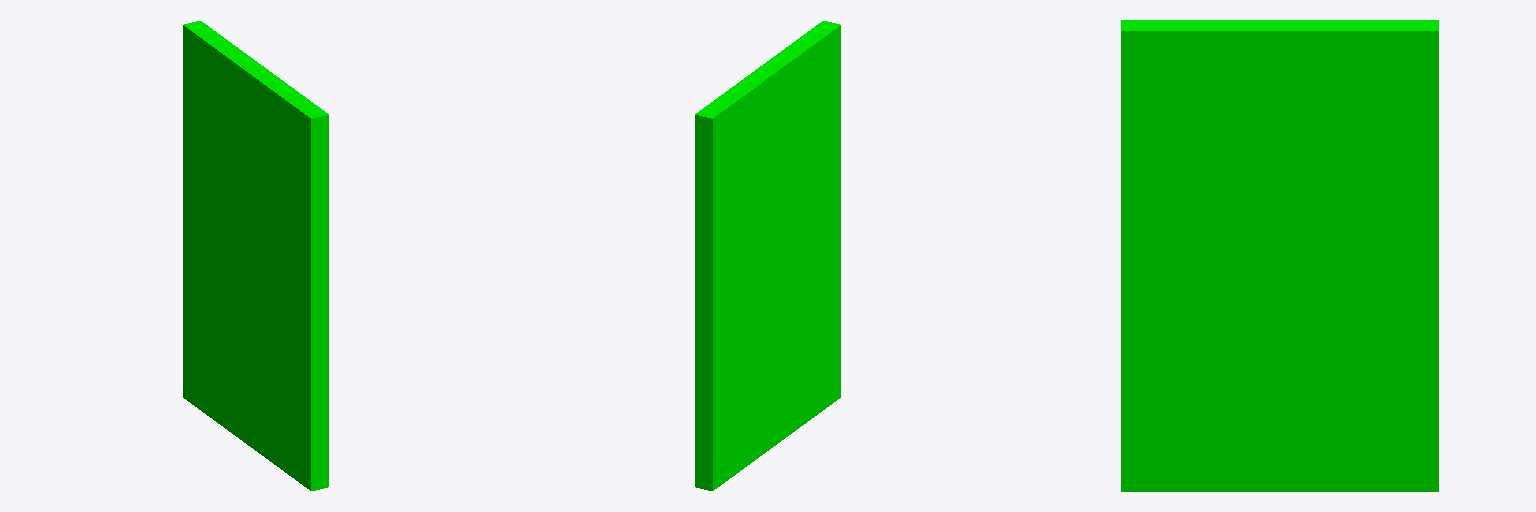
The robot description file, URDF, robot "simple_box":
<?xml version="1.0"?>
<robot name = "simple_box">

    <link name = "dummy"/>

    <link name="base_link">
        <visual>
            <geometry>
                <!--  box size = "0.4 0.4 0.8" -->
                <!-- <box size = "0.4 0.4 8" /> -->

                <!-- test box for log points -->
                <box size = "0.4 5 8" />

            </geometry>
            <material name = "green">
                <color rgba = "0 1 0 1" />
            </material>
        </visual>
        <collision>
            <geometry>
                <box size="0.4 0.4 0.8"/>
            </geometry>
        </collision>
        <inertial>
            <mass value = "10.0"/>
            <origin xyz = "0 0 0" rpy= "0 0 0"/> 
            <inertia ixx="1.0" ixy = "0.0" ixz="0.0" iyy="1.0" iyz="0.0" izz="1.0"/>
        </inertial>
    </link>

    <joint name= "dummy_joint" type = "fixed">
        <parent link= "dummy" />
        <child link= "base_link"/>
        <origin xyz="0 0 0" rpy="0 0 0"/>
    </joint>

    <gazebo reference= "base_link">
        <material>Gazebo/Green</material>
        <mu1>0.2</mu1>
        <mu2>0.2</mu2>

    </gazebo>

    <!-- depth camera -->

    <!-- <link name= "depth_camera_link">
        <visual>
            <geometry> 
                <box size= "0.1 0.1 0.1" />
            </geometry>
            <material name= "red" >
                <color rgba= "1 0 0 1" />
            </material>
        </visual>
        <inertial>
            <mass value= "0.2" />
            <origin xyz= "0 0 0" />
            <inertia ixx= "0.1" ixy= "0.0" ixz= "0.0" iyy= "0.1" iyz= "0.0" izz= "0.1" />
        </inertial>
        <collision>
            <geometry>
                <box size= "0.1 0.1 0.1" />
            </geometry>
        </collision>
    </link>

    <joint name= "depth_camera_joint" type= "fixed">
        <parent link= "base_link" />
        <child link= "depth_camera_link" />
        <origin xyz= "0.25 0 3" rpy= "0 0 0"/>
    </joint>  -->

    <!-- depth camera optical -->

    <!-- <link name= "depth_camera_optical_link"></link>

    <joint name= "depth_camera_optical_joint" type= "fixed">
        <parent link= "depth_camera_link" />
        <child link= "depth_camera_optical_link" />
        <origin xyz= "0 0 0 " rpy= "-1.57 0 -1.57"/>
    </joint>

    <gazebo reference= "depth_camera_link">
        <material>Gazebo/Red</material>
        <sensor name= "depth_camera_link" type= "depth">
            <visualize>true</visualize>
            <updateRate>10</updateRate>
            <camera>
                <horizontal_fov>1.047</horizontal_fov> 
                <vertical_fov>1.047</vertical_fov>   
                <image>
                    <width>8</width>
                    <height>8</height>
                </image>
                <clip>
                    <near>0.1</near>
                    <far>5.0</far>
                </clip>
            </camera>
            <plugin name="depth_camera_sensor" filename="libgazebo_ros_openni_kinect.so">
                <cameraName>depth_camera</cameraName>
                <frameName>depth_camera_optical_link</frameName>
                <alwaysOn>true</alwaysOn>
                <pointCloudTopicName>points</pointCloudTopicName>
                
                <imageTopicName>rgb/image_raw</imageTopicName>
                <depthImageTopicName>depth/image_raw</depthImageTopicName>
                <cameraInfoTopicName>rgb/camera_info</cameraInfoTopicName>
                <depthImageCameraInfoTopicName>depth/camera_info</depthImageCameraInfoTopicName> -->
                
                <!-- <baseline>0.1</baseline> -->
                <!-- <hfov>1.0472</hfov> 
                <vfov>1.0472</vfov>  -->
            <!-- </plugin>
        </sensor>
    </gazebo> -->

</robot>
<!-- 
    <gazebo reference="depth_camera_link">
        <sensor type="ray" name="conical_lidar">
            <pose>0 0 0 0 0 0</pose>
            <visualize>true</visualize>
            <update_rate>10.0</update_rate>
            <ray>
                <scan>
                    <horizontal>
                        <samples>16</samples>
                        <resolution>1</resolution>
                        <min_angle>-1.047</min_angle>
                        <max_angle>1.047</max_angle>
                    </horizontal>
                    <vertical>
                        <samples>16</samples> 
                        <resolution>1</resolution>
                        <min_angle>-0.26</min_angle>
                        <max_angle>0.26</max_angle>
                    </vertical>
                </scan>
                <range>
                    <min>0.1</min>
                    <max>5.0</max>
                </range>
                <noise>
                    <type>gaussian</type>
                    <mean>0.0</mean>
                    <stddev>0.01</stddev>
                </noise>
            </ray>
            <plugin name="gazebo_ros_laser_controller" filename="libgazebo_ros_ray_sensor.so">
                <topicName>sonar</topicName> 
                <frameName>depth_camera_link</frameName>
            </plugin>
        </sensor>
    </gazebo>  -->


    <!-- <gazebo reference="depth_camera_link">
        <sensor type="gpu_ray" name="conical_lidar_sensor">
            <pose>0.05 0 0 0 0 0</pose>
            <visualize>true</visualize>
            <update_rate>10.0</update_rate>
            <ray>
                <scan>
                    <horizontal>
                        <samples>10</samples>
                        <resolution>1</resolution>
                        <min_angle>-0.3</min_angle>
                        <max_angle>0.3</max_angle>
                    </horizontal>
                    <vertical>
                        <samples>10</samples> 
                        <resolution>1</resolution>
                        <min_angle>-0.5</min_angle>
                        <max_angle>0</max_angle>
                    </vertical>
                </scan>
                <range>
                    <min>0.1</min>
                    <max>5.0</max>
                    <resolution>0.01</resolution>
                </range>
                <noise>
                    <type>gaussian</type>
                    <mean>0.0</mean>
                    <stddev>0.01</stddev>
                </noise>
            </ray>
            <plugin name="gazebo_ros_gpu_laser" filename="libgazebo_ros_gpu_laser.so">
                <topicName>sonar</topicName>
                <frameName>depth_camera_link</frameName>
                <radiation_type>ultrasound</radiation_type>
            </plugin>
        </sensor>
    </gazebo> -->

    <!-- <gazebo reference="depth_camera_link">
        <sensor type="ray" name="conical_lidar">
            <pose>0.05 0 0 0 0 0</pose>
            <visualize>true</visualize>
            <update_rate>10</update_rate>
            <ray>
                <scan>
                    <horizontal>
                        <samples>24</samples> 
                        <resolution>1</resolution>
                        <min_angle>-1.047</min_angle> 
                        <max_angle>1.047</max_angle> 
                    </horizontal>
                    <vertical>
                        <samples>24</samples> 
                        <resolution>1</resolution>
                        <min_angle>-0.5</min_angle> 
                        <max_angle>0.5</max_angle> 
                    </vertical>
                </scan>
                <range>
                    <min>0.1</min>
                    <max>5.0</max>
                    <resolution>0.01</resolution>
                </range>
            </ray>
            <plugin name="sonar_plugin" filename="libgazebo_ros_range.so">
                <topicName>sonar</topicName>
                <radiation_type>ultrasound</radiation_type>
                <frameName>depth_camera_link</frameName>
            </plugin>
        </sensor>
    </gazebo> -->



    <!-- <gazebo reference= "depth_camera_link">
        <material>Gazebo/Red</material>
        <sensor type= "depth" name= "depth_camera_sensor">
            <update_rate>10</update_rate>
            <visualize>true</visualize>
            <camera>
                <horizontal_fov>1.047</horizontal_fov> 
                <vertical_fov>1.047</vertical_fov>   
                <image>
                    <width>320</width>
                    <height>320</height>
                </image>
                <clip>
                    <near>0.1</near>
                    <far>5.0</far>
                </clip>
            </camera>
            <plugin name= "depth_camera_sensor" filename= "libgazebo_ros_depth_camera.so">
                <frameName>depth_camera_optical_link</frameName>
                <cameraName>depth_camera</cameraName>
                <topicName>sonar</topicName>

            </plugin>
        </sensor>
    </gazebo> -->

    <!-- sonar -->
    
    <!-- <link name= "sonar_sensor_link">
        <visual>
            <geometry> 
                <box size= "0.1 0.1 0.1" />
            </geometry>
            <material name= "red" >
                <color rgba= "1 0 0 1" />
            </material>
        </visual>
        <inertial>
            <mass value= "0.2" />
            <origin xyz= "0 0 0" />
            <inertia ixx= "0.1" ixy= "0.0" ixz= "0.0" iyy= "0.1" iyz= "0.0" izz= "0.1" />
        </inertial>
        <collision>
            <geometry>
                <box size= "0.1 0.1 0.1" />
            </geometry>
        </collision>
    </link>

    <joint name= "sonar_sensor_joint" type= "fixed">
        <parent link= "base_link" />
        <child link= "sonar_sensor_link" />
        <origin xyz= "0.25 0 0.05" rpy= "0 -1.57 0"/>
    </joint> 


    <gazebo reference= "sonar_sensor_link">
        <material>Gazebo/Red</material>
        <sensor type= "sonar" name= "sonar_sensor">
            <update_rate>10.0</update_rate>
            <visualize>true</visualize>
            <sonar>
                <min>0.1</min>
                <max>5</max>
                <radius>4</radius>
                <frequency>50000</frequency>
            </sonar> 
            <plugin name= "sonar_sensor" filename= "libgazebo_ros_sonar.so">
                <alwaysOn>true</alwaysOn>
                <frameName>sonar_sensor_link</frameName>
                <topicName>/sonar</topicName>

            </plugin>
        </sensor>
    </gazebo>   -->
    
    <!-- sonar gazebo plugin -->

    <!-- <gazebo reference= "sonar_sensor_link">
        <material>Gazebo/Red</material>
        <sensor type= "ray" name= "sonar_sensor">
            <update_rate>10.0</update_rate>
            <visualize>true</visualize>
            <ray>
                <scan>
                    <horizontal>
                        <samples>10</samples>
                        <resolution>1</resolution>
                        <min_angle>-0.1</min_angle>
                        <max_angle>0.1</max_angle>
                    </horizontal>
                </scan>
                <range>
                    <min>0.1</min>
                    <max>6</max>
                    <resolution>0.01</resolution>
                </range>
            </ray> 
            <plugin name= "sonar_sensor" filename= "libgazebo_ros_ray_sensor.so">
                <frameName>sonar_sensor_link</frameName>
                <output_type>sensor_msgs/Range</output_type>
            </plugin>
        </sensor>
    </gazebo>  -->

--- What the picture shows (computed from the rendered views, not written in the file) ---
Views: 3 orthographic renders of the robot side by side, from view 1: azimuth 30°, elevation 25°; view 2: azimuth 150°, elevation 25°; view 3: azimuth 270°, elevation 25°.
Robot: simple_box — 2 links, 1 joints (1 fixed); root link dummy; default pose: every joint at zero.
Visible links, largest first — view 1: base_link; view 2: base_link; view 3: base_link.
Link boxes in pixels (x1,y1,x2,y2): base_link: [183, 21, 328, 490]; base_link: [695, 21, 840, 490]; base_link: [1121, 20, 1438, 491].
Bounding box of the posed robot: 0.4 × 5 × 8 m (x, y, z).
Geometry: primitives only (box / cylinder / sphere), no mesh files.
